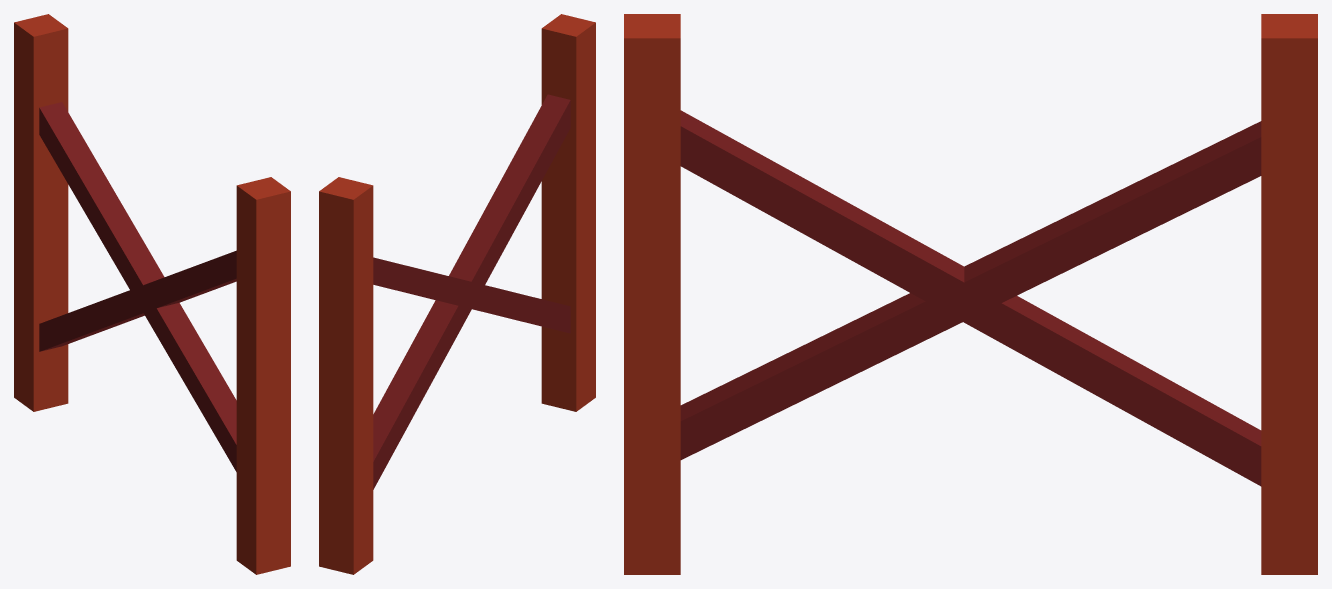
File: fence.glb
3 views of the same model, side by side, from view 1: azimuth 30°, elevation 25°; view 2: azimuth 150°, elevation 25°; view 3: azimuth 270°, elevation 25° (orthographic). The views are drawn at different scales.
Visible parts, largest first — view 1: Cube.004; view 2: Cube.004; view 3: Cube.004.
Part boxes in pixels (x1,y1,x2,y2): Cube.004: (14,14,290,574); Cube.004: (319,14,595,574); Cube.004: (624,14,1317,574).
Bounding box in the file's own units: 0.121 × 1.25 × 1.47.
